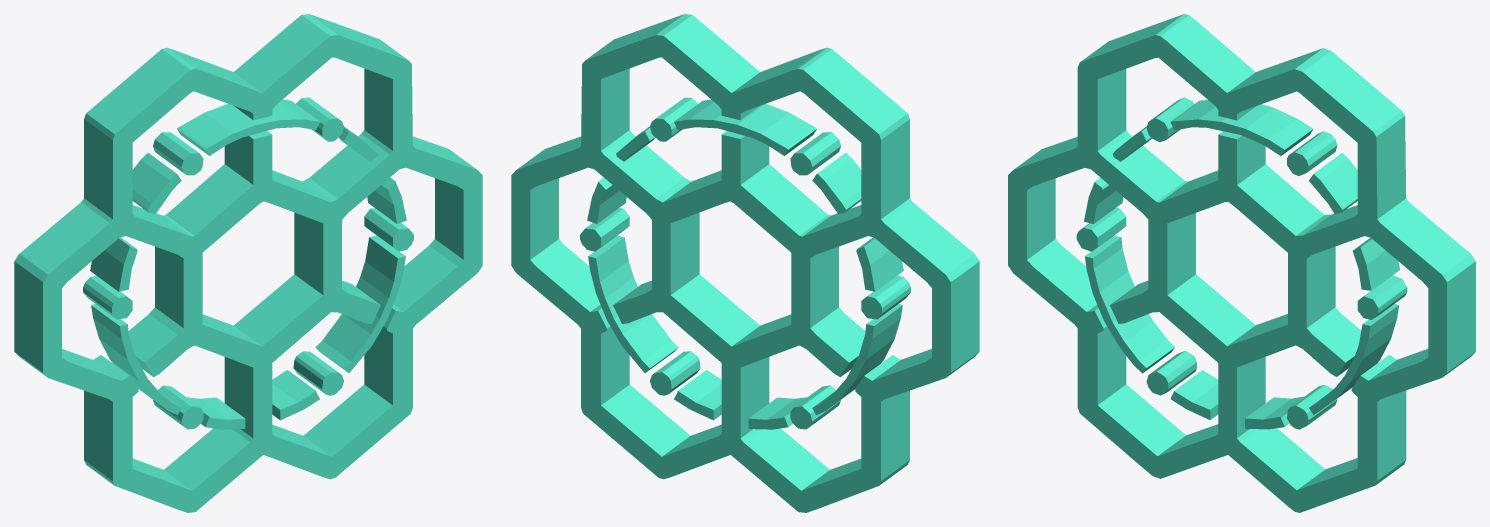
The model's file is wick-communal-effort.glb.
3 renders of one model, left to right at view 1: azimuth 30°, elevation 25°; view 2: azimuth 150°, elevation 25°; view 3: azimuth 330°, elevation 25°, orthographic.
Bounding box in the file's own units: 0.112 × 0.1079 × 0.0127.
